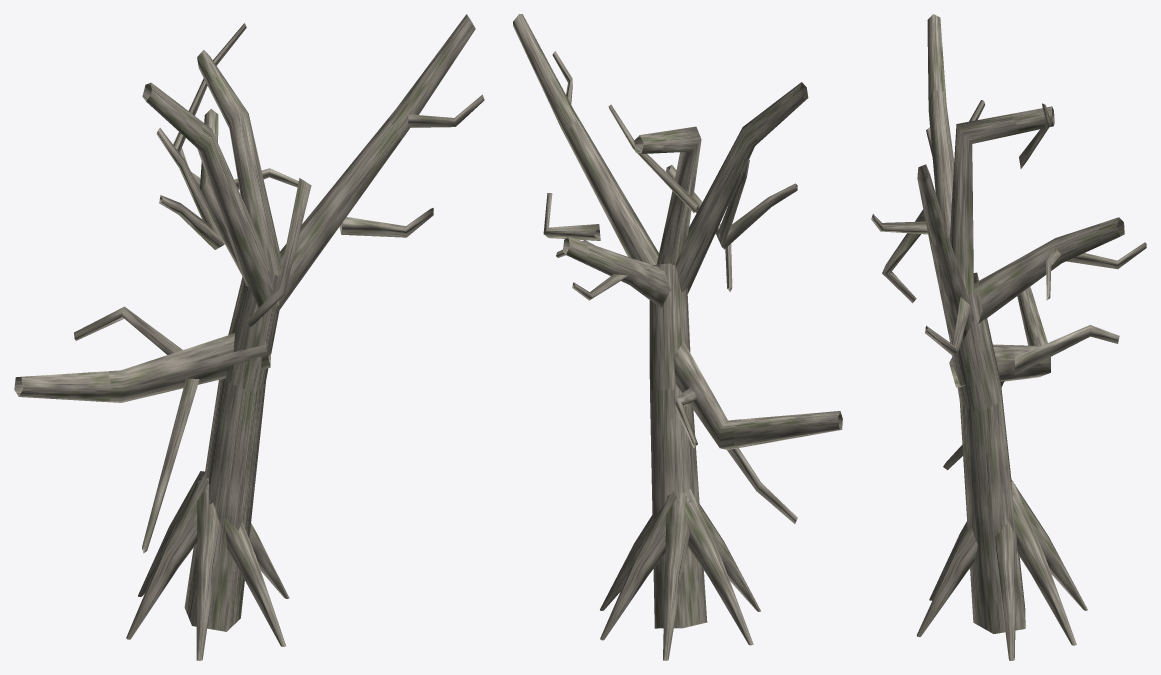
Rendered from DeadTree_1_LOD1.gltf.
3 renders of one model, left to right at view 1: azimuth 30°, elevation 25°; view 2: azimuth 150°, elevation 25°; view 3: azimuth 270°, elevation 25°, orthographic. The views are drawn at different scales.
Parts seen in each view (by area): view 1: DeadTree_1_LOD1; view 2: DeadTree_1_LOD1; view 3: DeadTree_1_LOD1.
Part boxes in pixels (<box>): DeadTree_1_LOD1: <box>14,14,484,660</box>; DeadTree_1_LOD1: <box>513,14,842,660</box>; DeadTree_1_LOD1: <box>871,14,1146,660</box>.
Bounding box in the file's own units: 6.77 × 9.33 × 4.13.
Materials: 1 (1 with a texture image).
